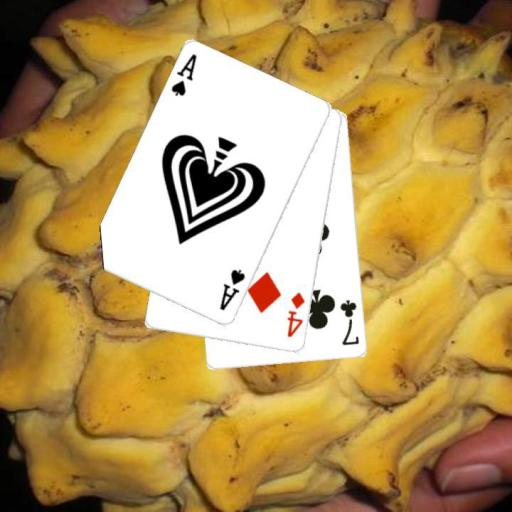4D: (285, 290, 308, 340)
7C: (337, 297, 361, 347)
AS: (168, 51, 198, 98), (216, 267, 247, 312)
